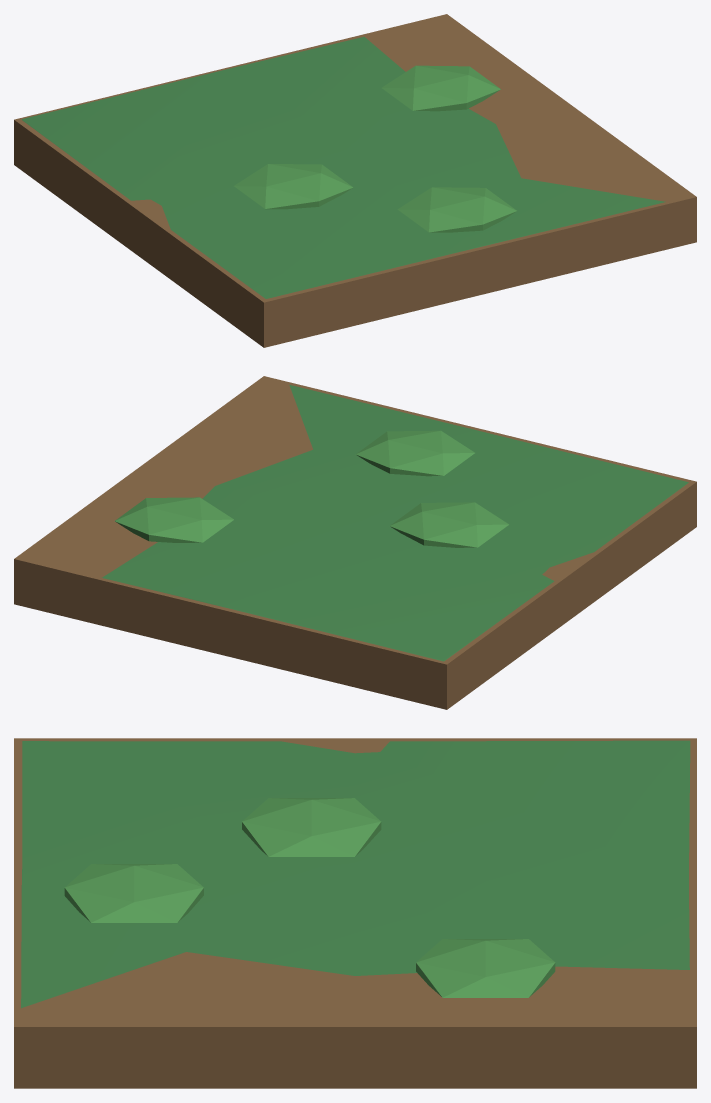
The model's file is stage1_floor_02.glb.
3 views of the same model, one above another, from view 1: azimuth 30°, elevation 25°; view 2: azimuth 150°, elevation 25°; view 3: azimuth 270°, elevation 25° (orthographic). The views are drawn at different scales.
Visible parts, largest first — view 1: stage1_floor_02_grass2, stage1_floor_02_dirt, stage1_floor_02_grass; view 2: stage1_floor_02_grass2, stage1_floor_02_dirt, stage1_floor_02_grass; view 3: stage1_floor_02_grass2, stage1_floor_02_dirt, stage1_floor_02_grass.
Boxes of the visible parts, x1,y1,x2,y2 form: stage1_floor_02_grass2: (22,36,665,298); stage1_floor_02_dirt: (14,14,696,347); stage1_floor_02_grass: (234,65,516,232); stage1_floor_02_grass2: (102,385,688,661); stage1_floor_02_dirt: (14,376,696,709); stage1_floor_02_grass: (114,430,508,547); stage1_floor_02_grass2: (21,740,690,1008); stage1_floor_02_dirt: (14,738,696,1088); stage1_floor_02_grass: (64,798,555,997).
Size of the model in its own units: 1 by 0.1203 by 1.
